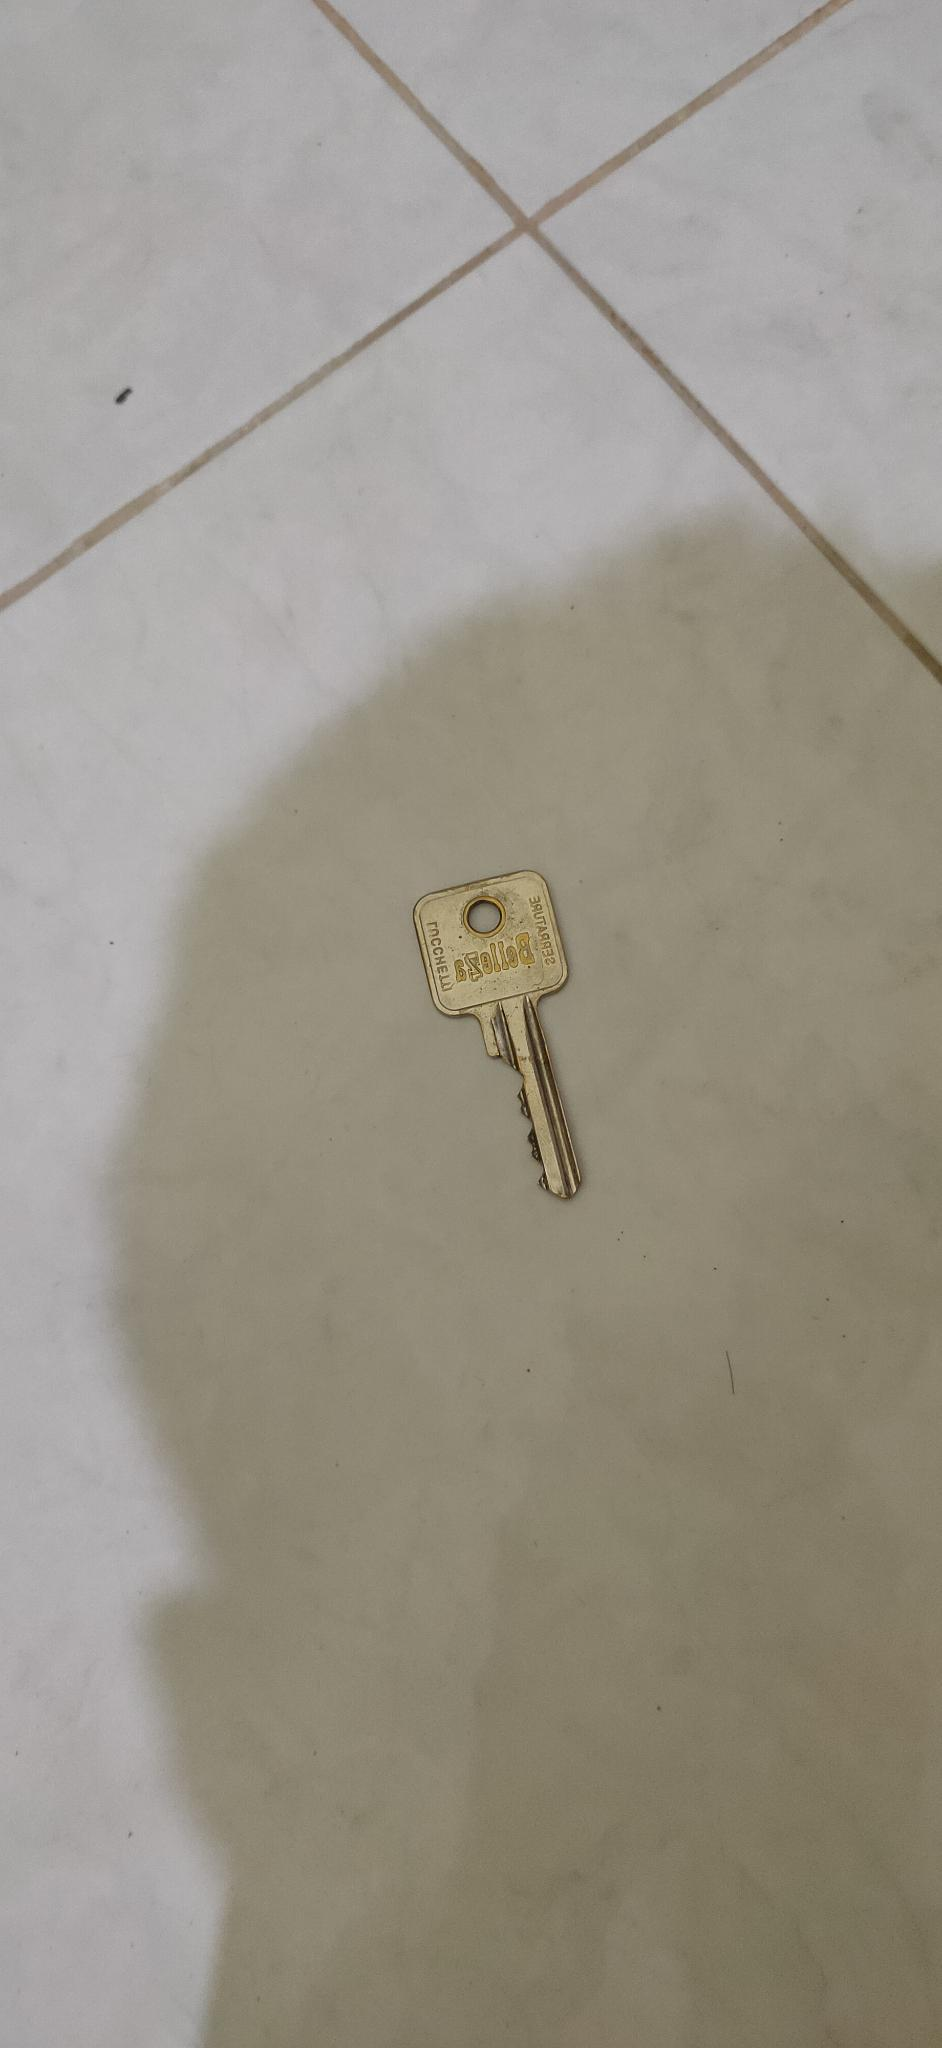keys: (384, 835, 608, 1249)
